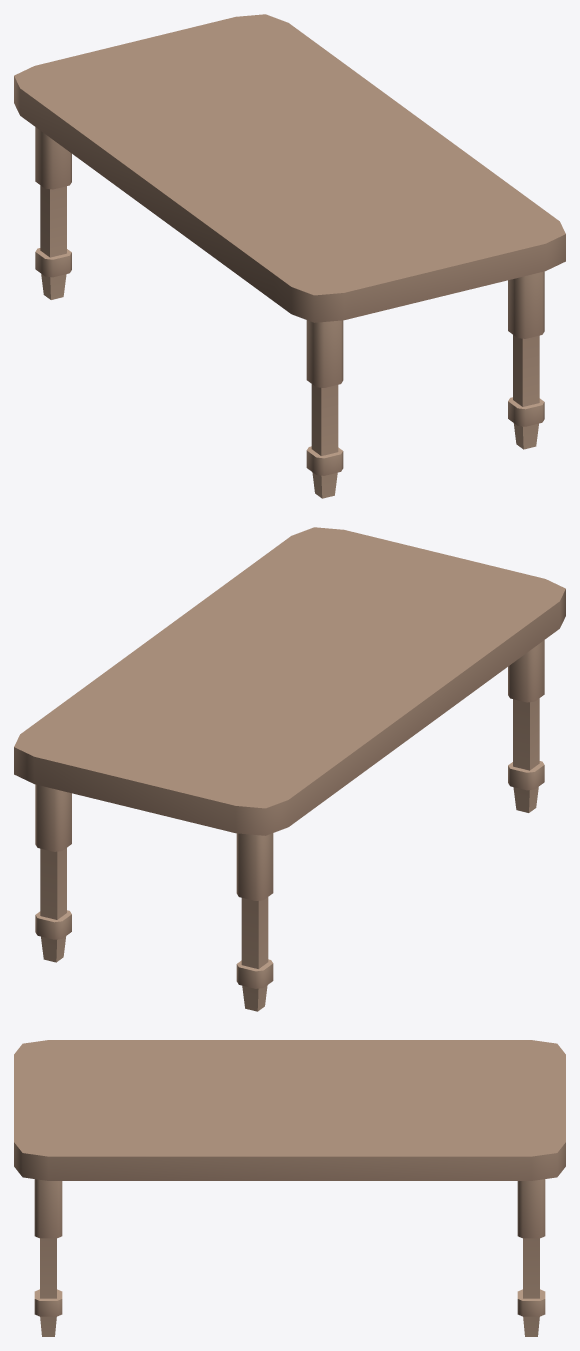
File: desk-classic.glb
The picture shows the model from 3 angles, top to bottom: view 1: azimuth 30°, elevation 25°; view 2: azimuth 150°, elevation 25°; view 3: azimuth 270°, elevation 25°; orthographic projection. The views are drawn at different scales.
Visible parts, largest first — view 1: desk-classic; view 2: desk-classic; view 3: desk-classic.
Part boxes in pixels (x1=…): desk-classic: x1=14, y1=14, x2=565, y2=498; desk-classic: x1=14, y1=527, x2=565, y2=1011; desk-classic: x1=14, y1=1040, x2=565, y2=1336.
Bounding box in the file's own units: 0.8 × 0.6146 × 1.6.
